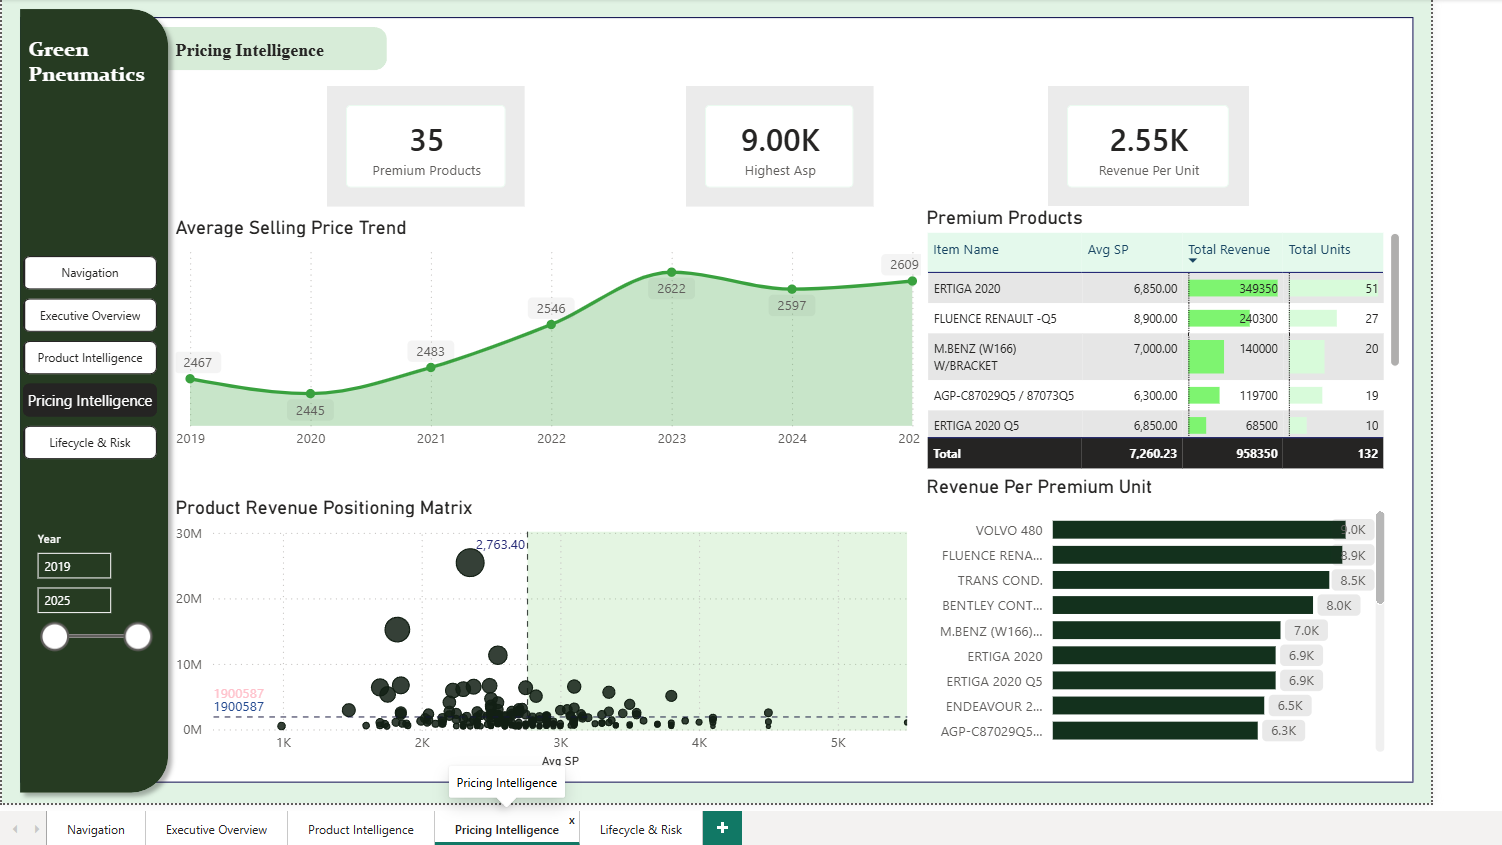

The dashboard page shown, as its layout file describes it:
{"tool":"powerbi","page":{"name":"Pricing Intelligence","canvas":[1280,720],"ordinal":3},"visuals":[{"type":"shape","box":[16.5,16.5,1247.9,685.7],"z":0},{"type":"cardVisual","fields":{"Data":["Master Sales Database.Highest Asp"]},"box":[612.4,77.9,167.7,108.2],"z":1000},{"type":"cardVisual","fields":{"Data":["Master Sales Database.Revenue Per Unit"]},"box":[937,77.9,179.6,108.2],"z":2000},{"type":"cardVisual","fields":{"Data":["Master Sales Database.Premium Products"]},"box":[291.1,77.9,177.4,108.2],"z":3000},{"type":"lineChart","title":"Average Selling Price  Trend","fields":{"Category":["Master Sales Database.Year"],"Y":["Master Sales Database.Avg SP"]},"box":[150.8,194.5,682.8,216.9],"z":4000},{"type":"scatterChart","title":"Product Revenue Positioning Matrix","fields":{"X":["Master Sales Database.Avg SP"],"Y":["Master Sales Database.Total Revenue"],"Size":["Master Sales Database.Total Units"],"Category":["Master Sales Database.Item Name"]},"box":[150.8,445.5,672.1,248],"z":5000},{"type":"tableEx","title":"Premium Products","fields":{"Values":["Master Sales Database.Item Name","Master Sales Database.Avg SP","Master Sales Database.Total Revenue","Master Sales Database.Total Units"]},"box":[822.9,185.8,433.8,240.2],"z":6000},{"type":"clusteredBarChart","title":"Revenue Per Premium Unit","fields":{"Category":["Master Sales Database.Item Name"],"Y":["Master Sales Database.Revenue Per Unit"]},"box":[822.9,426,420.2,252.9],"z":7000},{"type":"shape","box":[29.4,24.6,315.5,38.8],"z":8000},{"type":"textbox","box":[150.6,32.2,177.2,31.3],"z":9000},{"type":"shape","box":[6.8,0,150.8,719.8],"z":10000},{"type":"textbox","box":[18.9,27.5,127.9,71.1],"z":11000},{"type":"pageNavigator","box":[19,230.2,120.3,183],"z":12000},{"type":"slicer","fields":{"Values":["Master Sales Database.Year"]},"box":[18.9,471.8,124.1,131.7],"z":13000}]}

Visuals, with their boxes on the page's 1280x720 design canvas (x1, y1, x2, y2). These are canvas units, not pixel positions in the 1502x845 screenshot, which may show the page scaled, cropped or inside an application window:
shape: detection(16, 16, 1264, 702)
cardVisual - Master Sales Database.Highest Asp: detection(612, 78, 780, 186)
cardVisual - Master Sales Database.Revenue Per Unit: detection(937, 78, 1117, 186)
cardVisual - Master Sales Database.Premium Products: detection(291, 78, 468, 186)
"Average Selling Price  Trend" lineChart: detection(151, 194, 834, 411)
"Product Revenue Positioning Matrix" scatterChart: detection(151, 446, 823, 694)
"Premium Products" tableEx: detection(823, 186, 1257, 426)
"Revenue Per Premium Unit" clusteredBarChart: detection(823, 426, 1243, 679)
shape: detection(29, 25, 345, 63)
textbox: detection(151, 32, 328, 64)
shape: detection(7, 0, 158, 720)
textbox: detection(19, 28, 147, 99)
pageNavigator: detection(19, 230, 139, 413)
slicer - Master Sales Database.Year: detection(19, 472, 143, 604)
